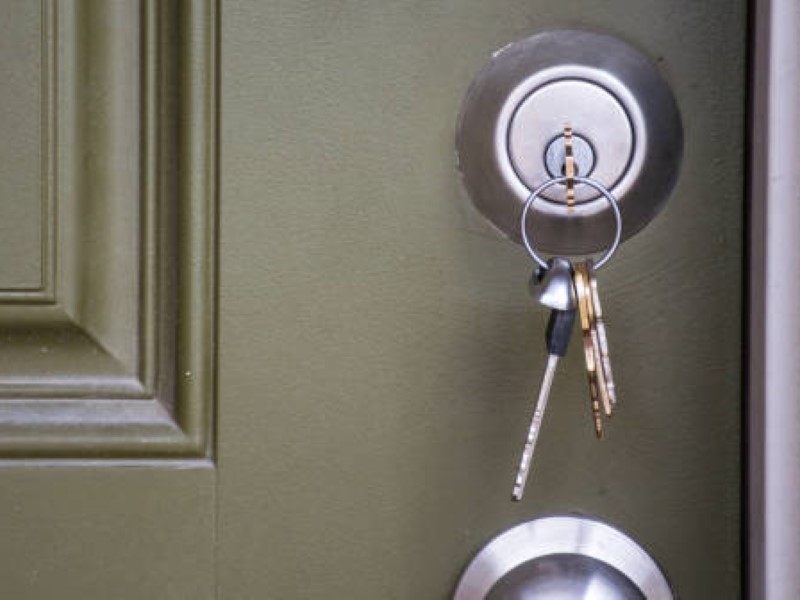key: (505, 251, 622, 505)
